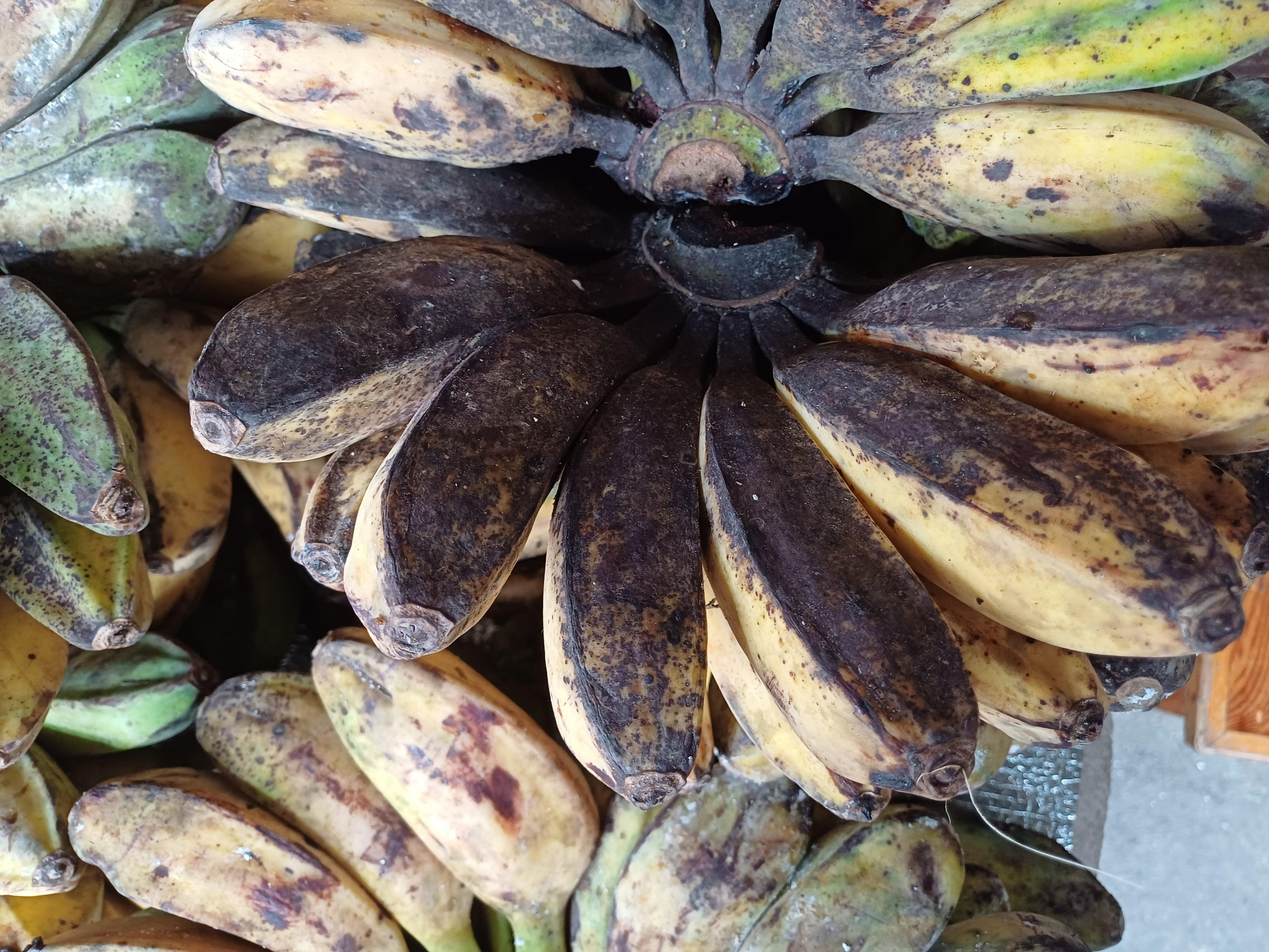overripe: (187, 119, 1269, 823)
underripe: (27, 632, 1128, 952), (185, 0, 1269, 255), (0, 0, 251, 952)
